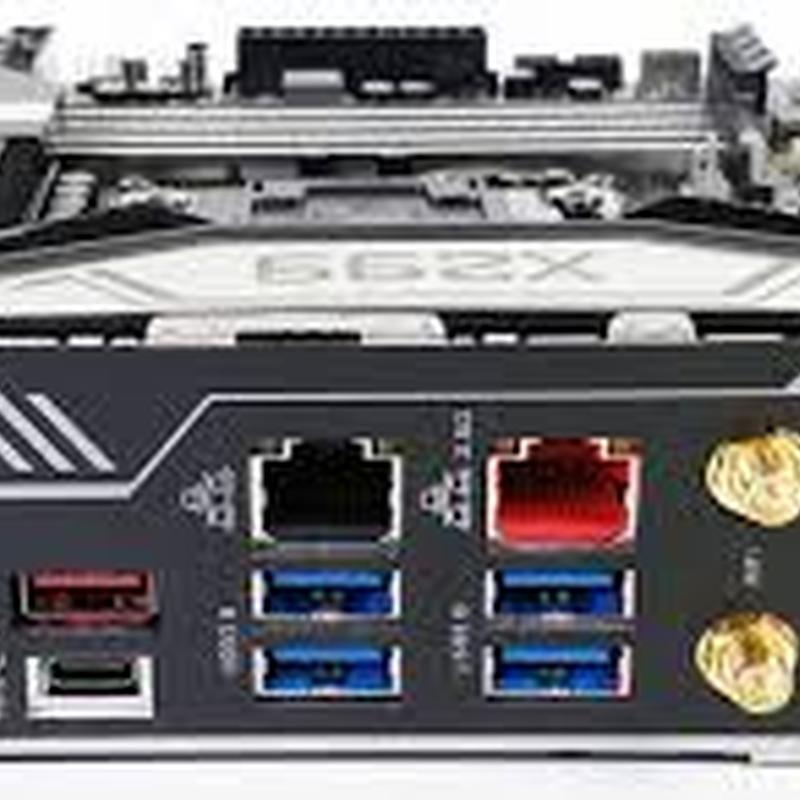ETHERNET: (218, 413, 415, 555), (462, 416, 649, 551)
USB: (467, 633, 650, 708), (7, 549, 175, 627), (241, 633, 415, 707), (476, 559, 658, 626), (247, 562, 412, 629)
USBC: (28, 637, 161, 706)
